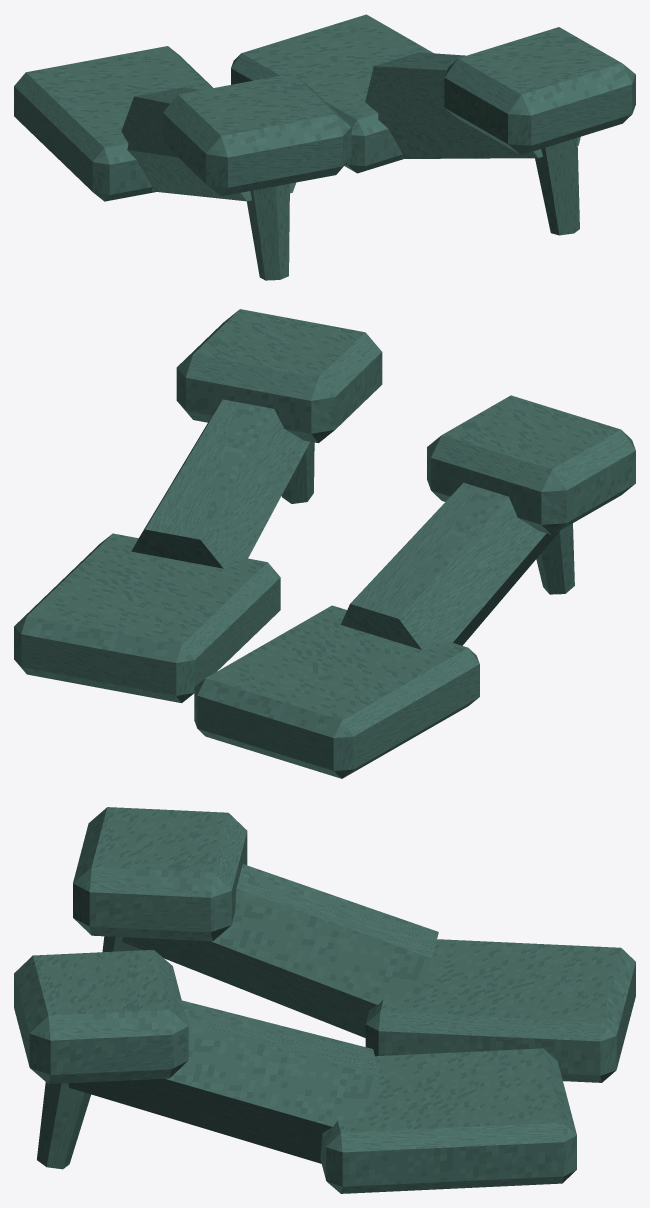
File: heels.glb
The picture shows the model from 3 angles, top to bottom: view 1: azimuth 30°, elevation 25°; view 2: azimuth 150°, elevation 25°; view 3: azimuth 270°, elevation 25°; orthographic projection. The views are drawn at different scales.
Parts seen in each view (by area): view 1: block_heel cup (×2), block_forefoot (×2), block_sloping arch (×2), block_slim heel (×2); view 2: block_forefoot (×2), block_heel cup (×2), block_sloping arch (×2), block_slim heel (×2); view 3: block_forefoot (×2), block_sloping arch (×2), block_heel cup (×2), block_slim heel.
Part boxes in pixels (box(x1,y1,x2,y2)): block_heel cup (×2): box(163, 27, 635, 196); block_forefoot (×2): box(14, 14, 433, 201); block_sloping arch (×2): box(121, 52, 580, 201); block_slim heel (×2): box(247, 137, 579, 280); block_forefoot (×2): box(14, 533, 479, 778); block_heel cup (×2): box(176, 309, 635, 534); block_sloping arch (×2): box(131, 399, 560, 649); block_slim heel (×2): box(281, 442, 574, 594); block_forefoot (×2): box(320, 939, 635, 1193); block_sloping arch (×2): box(68, 864, 438, 1163); block_heel cup (×2): box(14, 807, 247, 1084); block_slim heel: box(37, 1082, 91, 1169).
Bounding box in the file's own units: 0.2525 × 0.0975 × 0.2958.
1 material, 1 textured.
